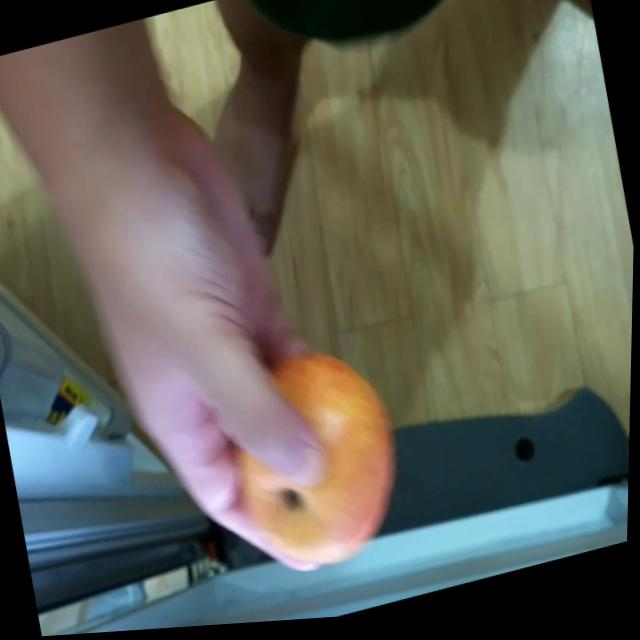apple: (202, 332, 417, 589)
